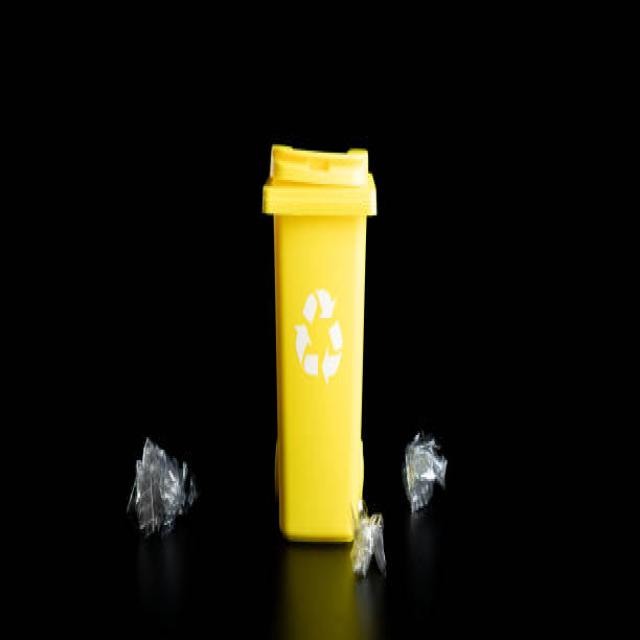plastic: (124, 440, 194, 536)
